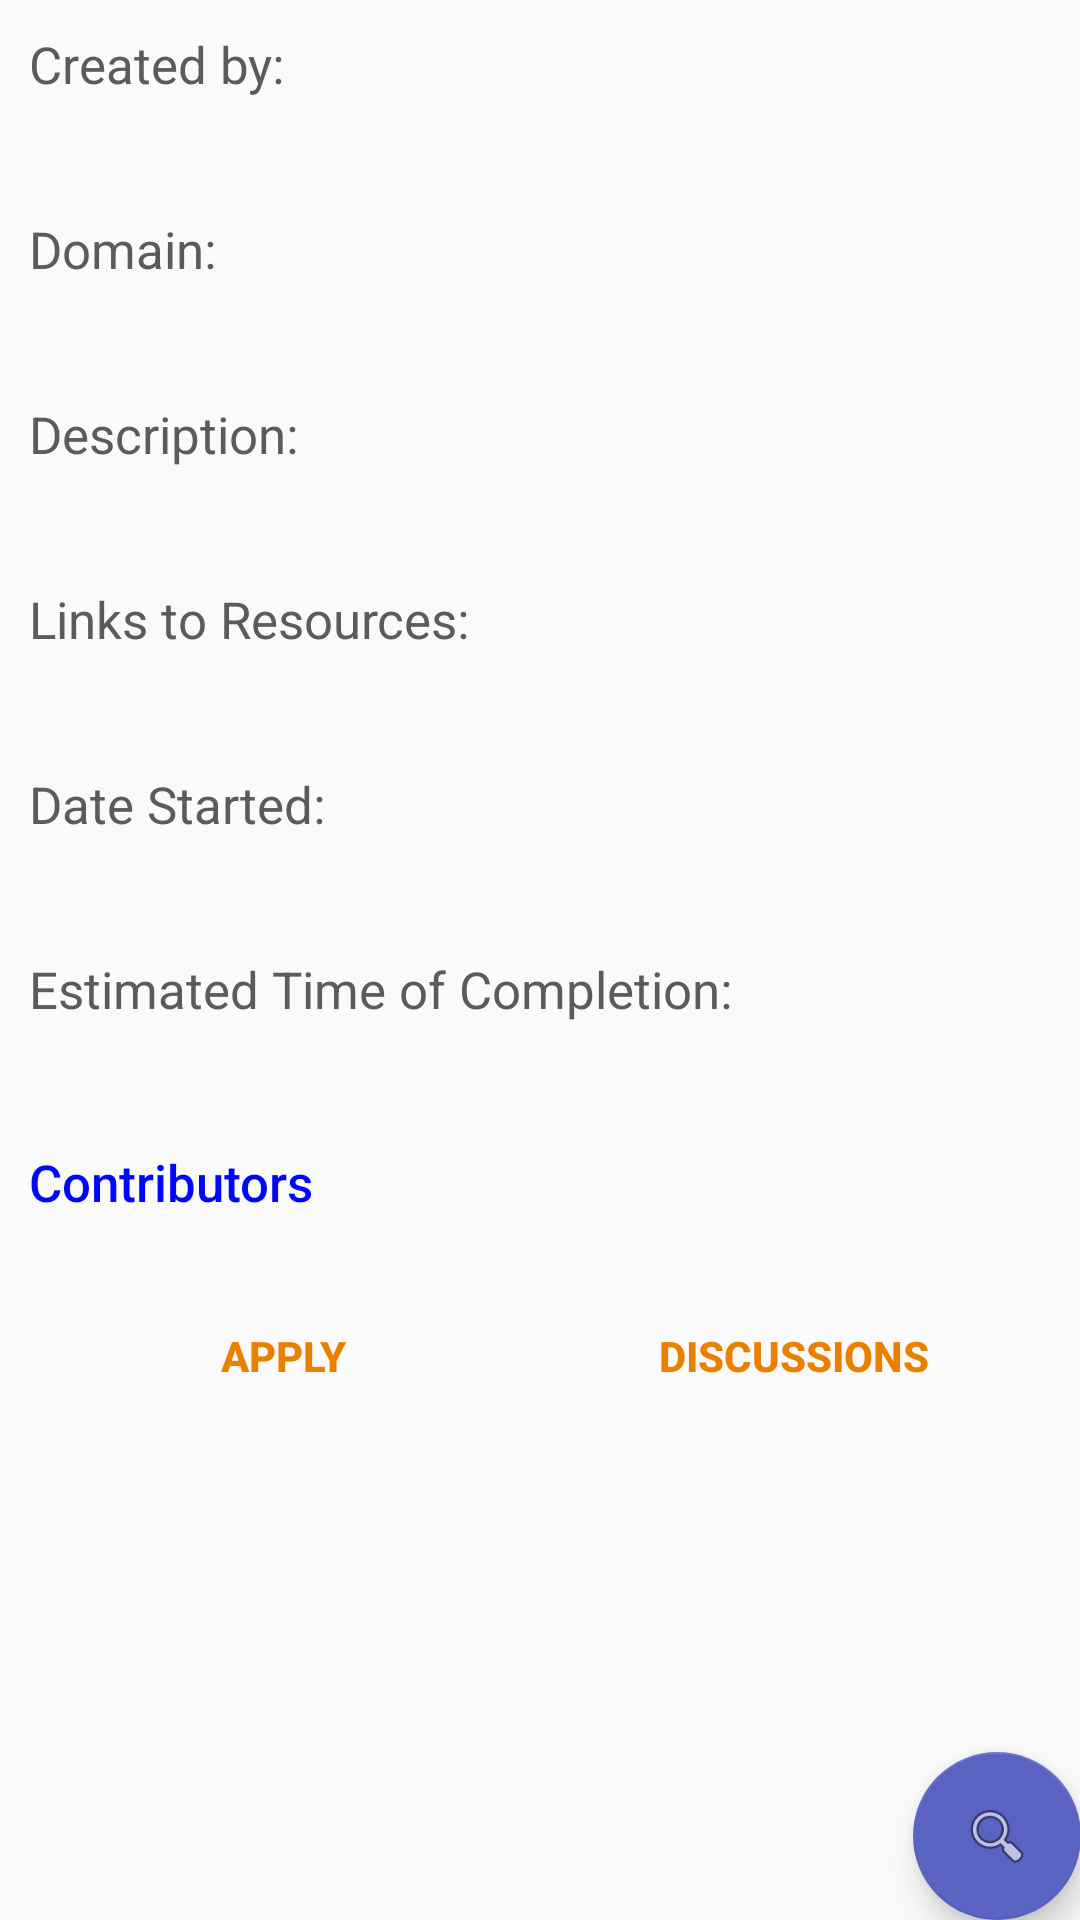

Locate icon controls on the screen. Image size 1080x1920, boxes as (x1, y1, x2, y2).
search: (913, 1752, 1080, 1920)
